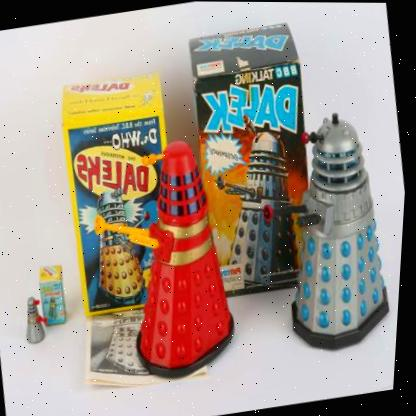dalek: (100, 124, 261, 381), (250, 97, 410, 354), (205, 108, 326, 296), (60, 174, 177, 328)
